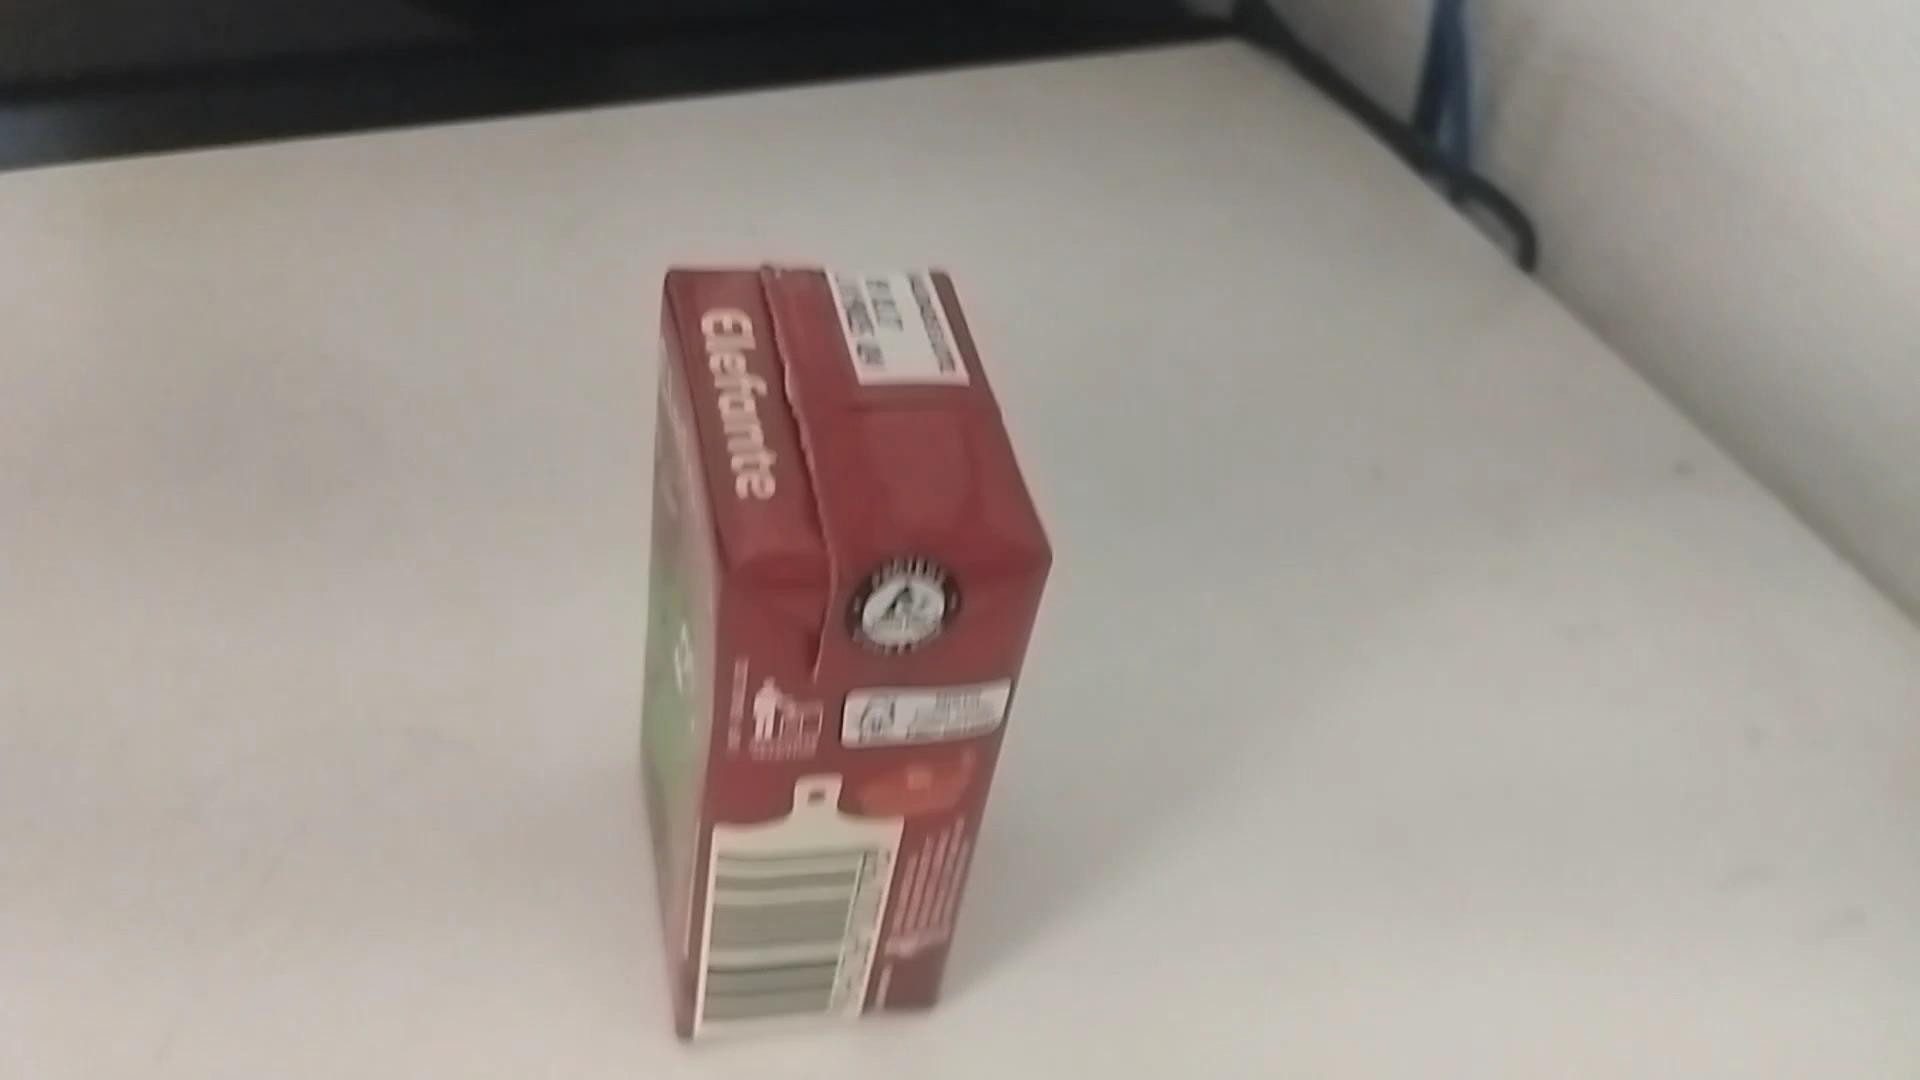tomate: (636, 247, 1071, 1047)
